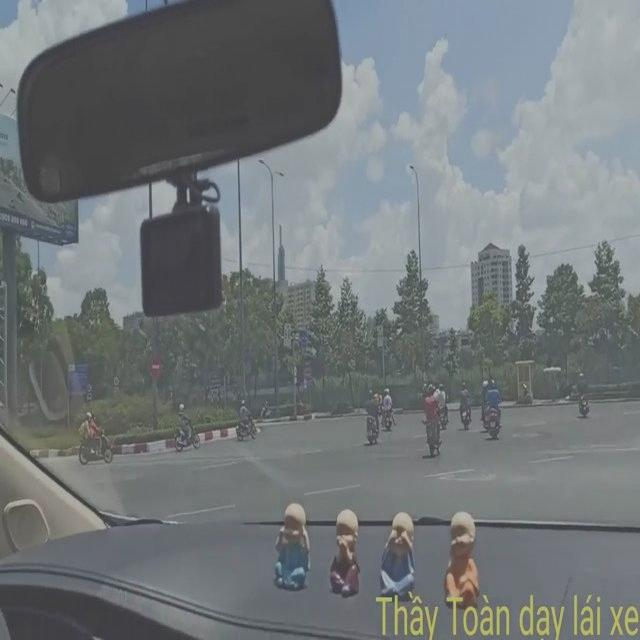Cấm các phương tiện hoạt động trong khung giờ cố định: (282, 317, 292, 350)
Cấm xe máy: (292, 363, 298, 377)
Cấm đi ngược chiều: (149, 352, 162, 379)
Khác: (64, 362, 91, 401), (205, 366, 219, 390), (304, 356, 314, 387)
Làn đường cho từng xe: (298, 328, 310, 346)
